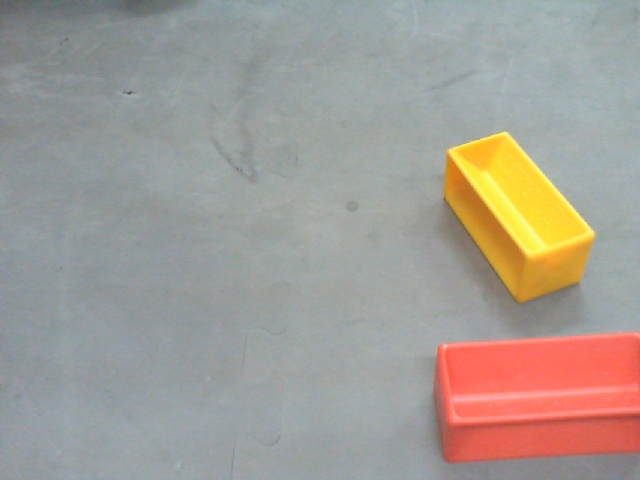RedSample: (430, 328, 640, 469)
YellowSample: (443, 127, 595, 304)
